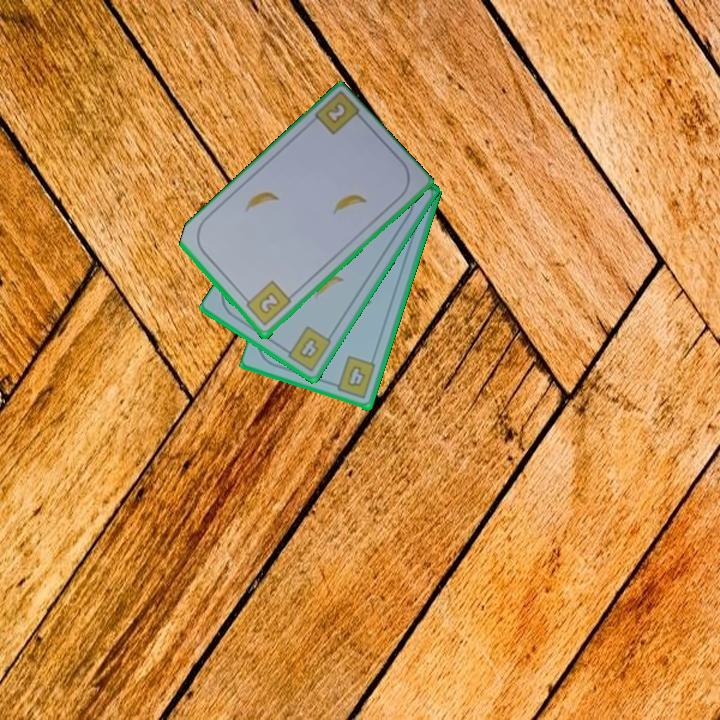2b: (240, 278, 294, 329), (322, 99, 350, 127)
4b: (279, 323, 335, 375), (328, 353, 379, 402)
